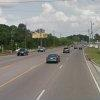Car: (41, 48, 63, 66)
